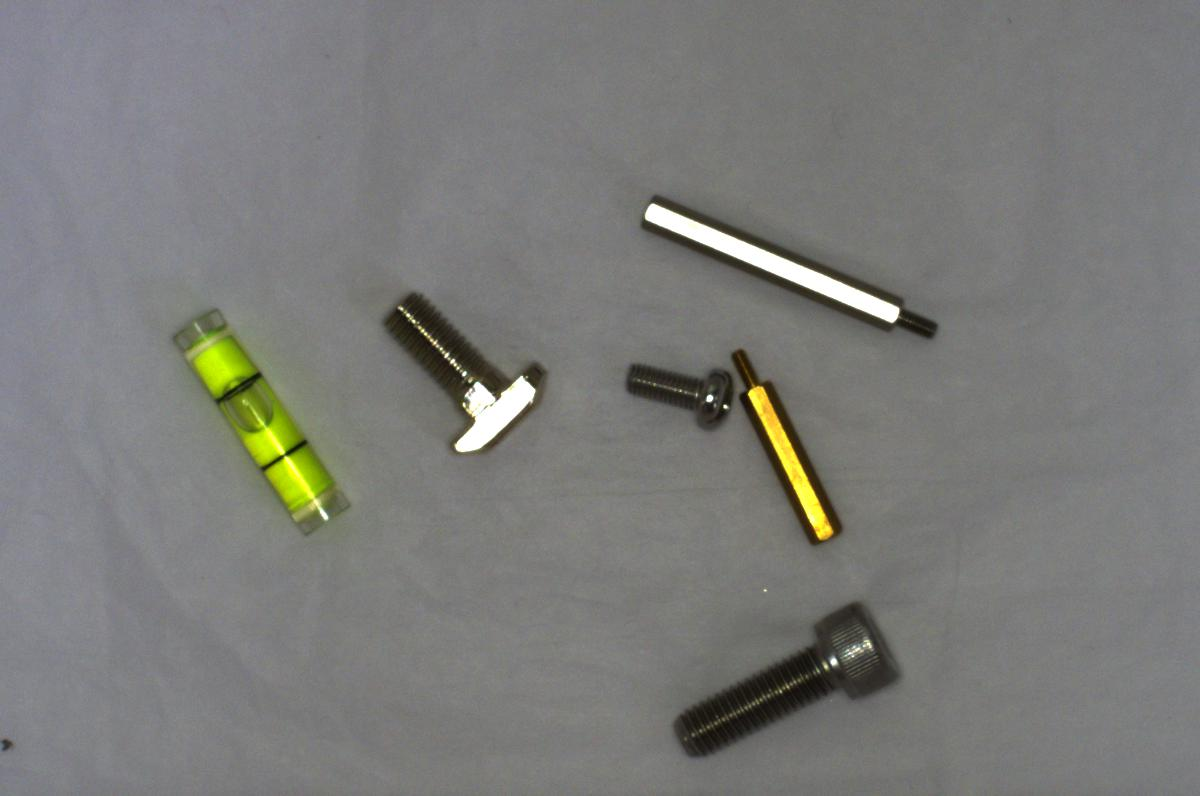Hexagon pillar: (728, 342, 842, 546)
Hexagon screw: (668, 593, 904, 760)
Hexagonal steel column: (633, 189, 946, 348)
Horizontal bubble: (166, 302, 351, 541)
Round head screw: (615, 355, 739, 430)
T-shaped screw: (374, 286, 547, 460)
